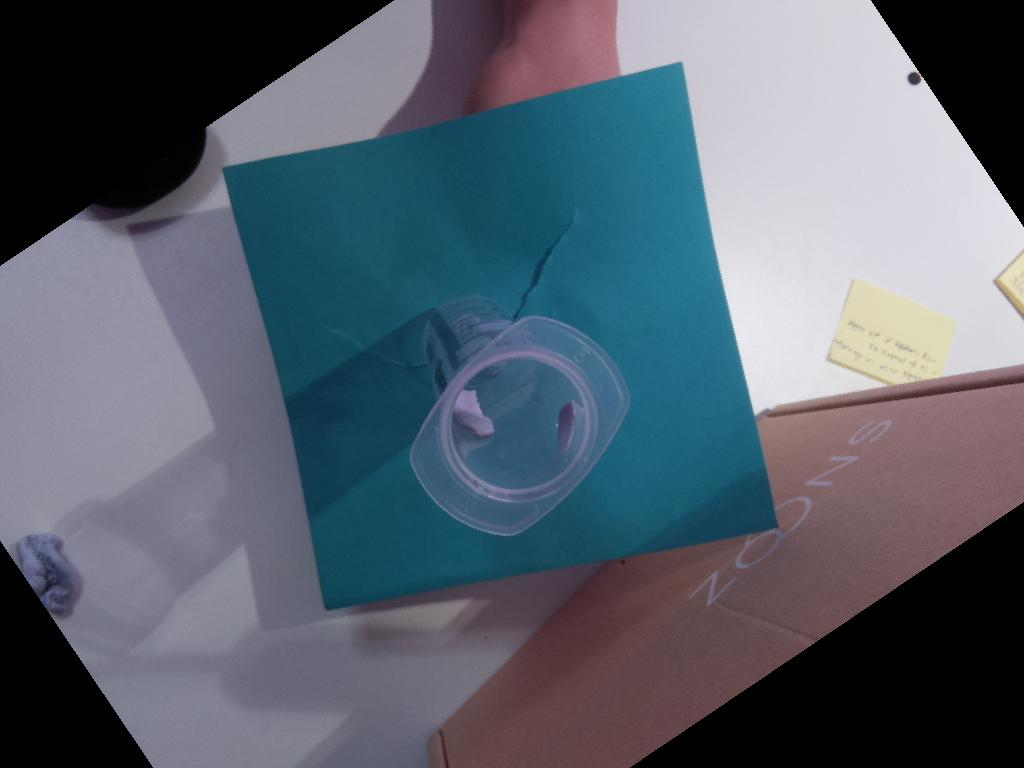dirty: (411, 317, 631, 538)
